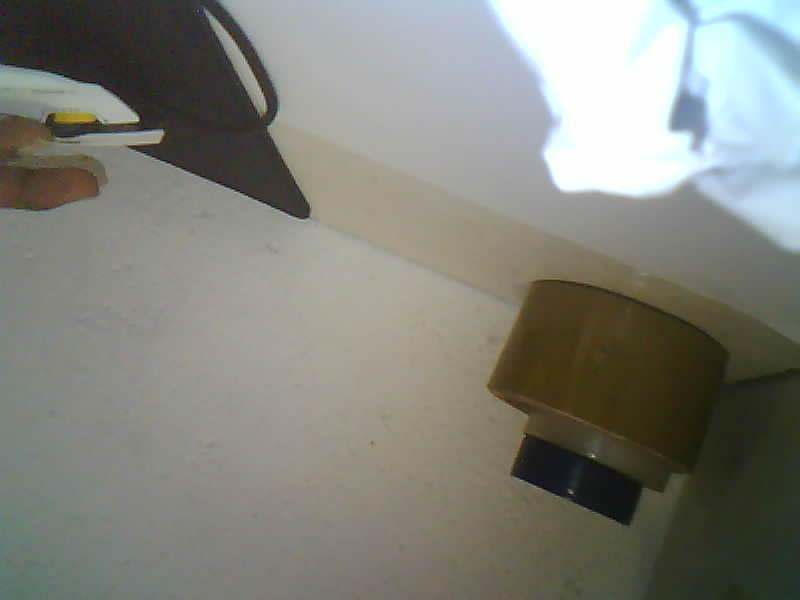biodegradable: (489, 0, 799, 250)
